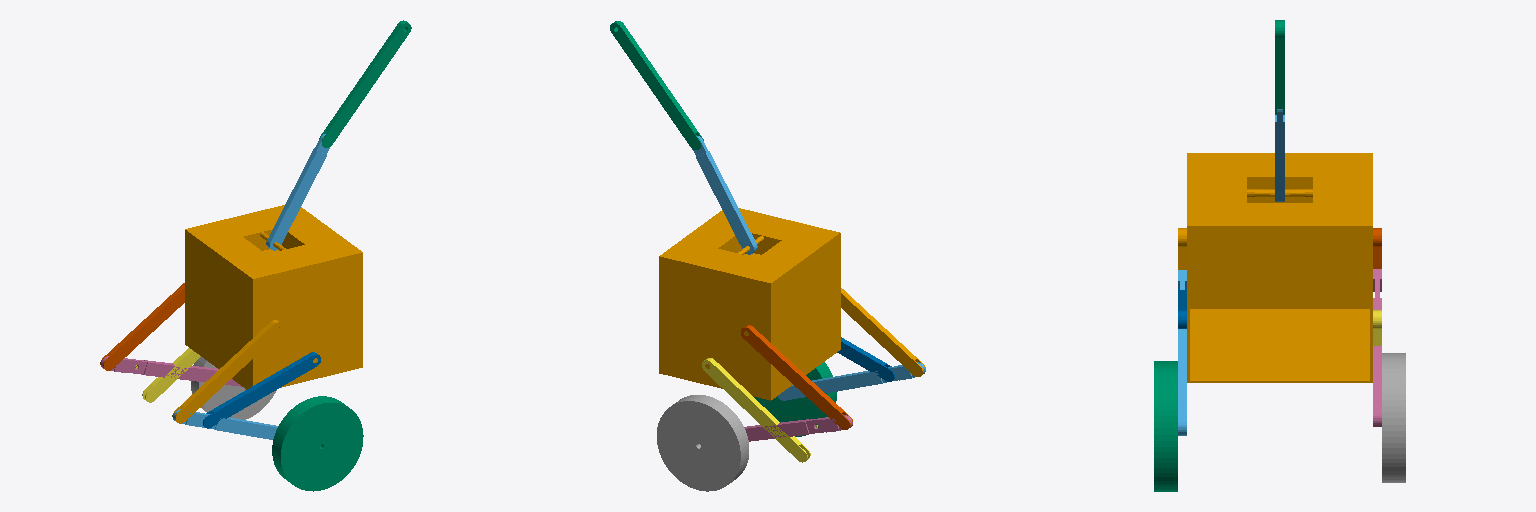
URDF robot description (NewWholeBody):
<?xml version="1.0" ?>
<robot name="NewWholeBody">

<material name="silver">
  <color rgba="0.700 0.700 0.700 1.000"/>
</material>

<link name="base_link">
  <inertial>
    <origin xyz="0.0010369963454156395 -3.348150245632273e-10 0.38745710014612833" rpy="0 0 0"/>
    <mass value="1.5129981071291567"/>
    <inertia ixx="0.015844153533162264" iyy="0.012850727672577528" izz="0.013568085255687909" ixy="8.709088895105673e-12" iyz="3.764736934092507e-11" ixz="-8.04915189246716e-05"/>
  </inertial>
  <visual>
    <origin xyz="0 0 0" rpy="0 0 0"/>
    <geometry>
      <mesh filename="meshes/base_link.stl" scale="0.001 0.001 0.001"/>
    </geometry>
    <material name="silver"/>
    <material/>
  </visual>
  <collision>
    <origin xyz="0 0 0" rpy="0 0 0"/>
    <geometry>
      <mesh filename="meshes/base_link.stl" scale="0.001 0.001 0.001"/>
    </geometry>
  </collision>
</link>

<link name="Arm_11">
  <inertial>
    <origin xyz="-0.06887881670806338 -4.0549828667409675e-16 0.04198937000815561" rpy="0 0 0"/>
    <mass value="0.0925263712895926"/>
    <inertia ixx="6.67047839181395e-05" iyy="0.0002382744186329687" izz="0.00017303107541783368" ixy="6.580077041028907e-19" iyz="-3.9561056124029504e-19" ixz="0.00010315192217067674"/>
  </inertial>
  <visual>
    <origin xyz="-0.018229 0.0 -0.473275" rpy="0 0 0"/>
    <geometry>
      <mesh filename="meshes/Arm_11.stl" scale="0.001 0.001 0.001"/>
    </geometry>
    <material name="silver"/>
    <material/>
  </visual>
  <collision>
    <origin xyz="-0.018229 0.0 -0.473275" rpy="0 0 0"/>
    <geometry>
      <mesh filename="meshes/Arm_11.stl" scale="0.001 0.001 0.001"/>
    </geometry>
  </collision>
</link>

<link name="Arm_21">
  <inertial>
    <origin xyz="-0.07832812139577408 1.5791898303503433e-16 0.06807616769171754" rpy="0 0 0"/>
    <mass value="0.10950674290474426"/>
    <inertia ixx="0.00016788865540319498" iyy="0.00038678724614444465" izz="0.0002207836326081486" ixy="8.327699754513866e-19" iyz="-7.112610145839651e-19" ixz="0.0001879250454968652"/>
  </inertial>
  <visual>
    <origin xyz="0.126925 0.0 -0.561763" rpy="0 0 0"/>
    <geometry>
      <mesh filename="meshes/Arm_21.stl" scale="0.001 0.001 0.001"/>
    </geometry>
    <material name="silver"/>
    <material/>
  </visual>
  <collision>
    <origin xyz="0.126925 0.0 -0.561763" rpy="0 0 0"/>
    <geometry>
      <mesh filename="meshes/Arm_21.stl" scale="0.001 0.001 0.001"/>
    </geometry>
  </collision>
</link>

<link name="link_L341">
  <inertial>
    <origin xyz="-0.07458152287318044 -6.938893903907228e-16 -0.05079130592513936" rpy="0 0 0"/>
    <mass value="0.10302674290474427"/>
    <inertia ixx="0.00010458248707285837" iyy="0.000323345983214483" izz="0.00022054053800852724" ixy="6.505213034913027e-19" iyz="0.0" ixz="-0.0001472703662563728"/>
  </inertial>
  <visual>
    <origin xyz="-0.024731 -0.105 -0.326275" rpy="0 0 0"/>
    <geometry>
      <mesh filename="meshes/link_L341.stl" scale="0.001 0.001 0.001"/>
    </geometry>
    <material name="silver"/>
    <material/>
  </visual>
  <collision>
    <origin xyz="-0.024731 -0.105 -0.326275" rpy="0 0 0"/>
    <geometry>
      <mesh filename="meshes/link_L341.stl" scale="0.001 0.001 0.001"/>
    </geometry>
  </collision>
</link>

<link name="link_r341">
  <inertial>
    <origin xyz="-0.08593191527889932 -2.3592239273284576e-16 -0.027529201722535313" rpy="0 0 0"/>
    <mass value="0.10302674290474428"/>
    <inertia ixx="3.3752191123455344e-05" iyy="0.00032334598321447257" izz="0.0002913708339579858" ixy="1.4094628242311558e-18" iyz="8.673617379884035e-19" ixz="-9.19689452343166e-05"/>
  </inertial>
  <visual>
    <origin xyz="-0.024731 0.105 -0.326275" rpy="0 0 0"/>
    <geometry>
      <mesh filename="meshes/link_r341.stl" scale="0.001 0.001 0.001"/>
    </geometry>
    <material name="silver"/>
    <material/>
  </visual>
  <collision>
    <origin xyz="-0.024731 0.105 -0.326275" rpy="0 0 0"/>
    <geometry>
      <mesh filename="meshes/link_r341.stl" scale="0.001 0.001 0.001"/>
    </geometry>
  </collision>
</link>

<link name="linkL121">
  <inertial>
    <origin xyz="-0.07777655386932458 -3.885780586188048e-16 -0.05049166888892753" rpy="0 0 0"/>
    <mass value="0.10572674290474426"/>
    <inertia ixx="0.0001057636114315582" iyy="0.00034885158668789343" izz="0.0002449100171232426" ixy="1.0842021724855044e-18" iyz="4.336808689942018e-19" ixz="-0.0001561357942743702"/>
  </inertial>
  <visual>
    <origin xyz="0.039771 -0.105 -0.393271" rpy="0 0 0"/>
    <geometry>
      <mesh filename="meshes/linkL121.stl" scale="0.001 0.001 0.001"/>
    </geometry>
    <material name="silver"/>
    <material/>
  </visual>
  <collision>
    <origin xyz="0.039771 -0.105 -0.393271" rpy="0 0 0"/>
    <geometry>
      <mesh filename="meshes/linkL121.stl" scale="0.001 0.001 0.001"/>
    </geometry>
  </collision>
</link>

<link name="link_L251">
  <inertial>
    <origin xyz="0.1229294574686997 0.00010682795323622984 -0.04245834050984432" rpy="0 0 0"/>
    <mass value="0.12704240652648377"/>
    <inertia ixx="7.433373459893311e-05" iyy="0.0006560903389666115" izz="0.0005839875881356168" ixy="-1.4103817254885413e-06" iyz="4.871253104833141e-07" ixz="0.00019986969565994987"/>
  </inertial>
  <visual>
    <origin xyz="0.20165 -0.105 -0.288181" rpy="0 0 0"/>
    <geometry>
      <mesh filename="meshes/link_L251.stl" scale="0.001 0.001 0.001"/>
    </geometry>
    <material name="silver"/>
    <material/>
  </visual>
  <collision>
    <origin xyz="0.20165 -0.105 -0.288181" rpy="0 0 0"/>
    <geometry>
      <mesh filename="meshes/link_L251.stl" scale="0.001 0.001 0.001"/>
    </geometry>
  </collision>
</link>

<link name="wheel_L1">
  <inertial>
    <origin xyz="3.9416159664656947e-07 0.012499999999998929 -1.1878210240401366e-07" rpy="0 0 0"/>
    <mass value="0.26851192410231955"/>
    <inertia ixx="0.0003439861507693112" iyy="0.000660002309443939" izz="0.0003439861507686156" ixy="7.589415207398531e-19" iyz="-6.071532165918825e-18" ixz="-2.719179048593645e-16"/>
  </inertial>
  <visual>
    <origin xyz="-0.0252 -0.11 -0.20983" rpy="0 0 0"/>
    <geometry>
      <mesh filename="meshes/wheel_L1.stl" scale="0.001 0.001 0.001"/>
    </geometry>
    <material name="silver"/>
    <material/>
  </visual>
  <collision>
    <origin xyz="-0.0252 -0.11 -0.20983" rpy="0 0 0"/>
    <geometry>
      <mesh filename="meshes/wheel_L1.stl" scale="0.001 0.001 0.001"/>
    </geometry>
  </collision>
</link>

<link name="link_r121">
  <inertial>
    <origin xyz="-0.07755455907658526 -6.938893903907228e-17 -0.05083199013358264" rpy="0 0 0"/>
    <mass value="0.1057267429047442"/>
    <inertia ixx="0.00010713459417762035" iyy="0.0003488515866879819" izz="0.00024353903437717003" ixy="8.673617379884035e-19" iyz="4.336808689942018e-19" ixz="-0.0001567395099564186"/>
  </inertial>
  <visual>
    <origin xyz="0.039771 0.105 -0.393271" rpy="0 0 0"/>
    <geometry>
      <mesh filename="meshes/link_r121.stl" scale="0.001 0.001 0.001"/>
    </geometry>
    <material name="silver"/>
    <material/>
  </visual>
  <collision>
    <origin xyz="0.039771 0.105 -0.393271" rpy="0 0 0"/>
    <geometry>
      <mesh filename="meshes/link_r121.stl" scale="0.001 0.001 0.001"/>
    </geometry>
  </collision>
</link>

<link name="link_r251">
  <inertial>
    <origin xyz="0.12070595452938576 -0.00010682795323704863 -0.04841883191709501" rpy="0 0 0"/>
    <mass value="0.12704240652648377"/>
    <inertia ixx="9.507892422850293e-05" iyy="0.0006560903389665265" izz="0.0005632423985060474" ixy="1.3848707666422756e-06" iyz="-5.555183520081913e-07" ixz="0.00022380884296089275"/>
  </inertial>
  <visual>
    <origin xyz="0.201188 0.105 -0.287472" rpy="0 0 0"/>
    <geometry>
      <mesh filename="meshes/link_r251.stl" scale="0.001 0.001 0.001"/>
    </geometry>
    <material name="silver"/>
    <material/>
  </visual>
  <collision>
    <origin xyz="0.201188 0.105 -0.287472" rpy="0 0 0"/>
    <geometry>
      <mesh filename="meshes/link_r251.stl" scale="0.001 0.001 0.001"/>
    </geometry>
  </collision>
</link>

<link name="wheel_R1">
  <inertial>
    <origin xyz="1.7122041193889936e-07 -0.012500000000000636 -4.00025579327945e-09" rpy="0 0 0"/>
    <mass value="0.2685119241023203"/>
    <inertia ixx="0.00034398615076871794" iyy="0.000660002309443691" izz="0.0003439861507692184" ixy="8.673617379884035e-19" iyz="0.0" ixz="3.699297812520541e-16"/>
  </inertial>
  <visual>
    <origin xyz="-0.021559 0.11 -0.198121" rpy="0 0 0"/>
    <geometry>
      <mesh filename="meshes/wheel_R1.stl" scale="0.001 0.001 0.001"/>
    </geometry>
    <material name="silver"/>
    <material/>
  </visual>
  <collision>
    <origin xyz="-0.021559 0.11 -0.198121" rpy="0 0 0"/>
    <geometry>
      <mesh filename="meshes/wheel_R1.stl" scale="0.001 0.001 0.001"/>
    </geometry>
  </collision>
</link>



<link name="LL21">
  <inertial>
    <origin xyz="4.251521484033294e-07 0.0005063291139238563 -3.586145163603227e-07" rpy="0 0 0"/>
    <mass value="0.00024353233551547171"/>
    <inertia ixx="9.273654304463872e-10" iyy="7.055501229644764e-10" izz="9.273655016124013e-10" ixy="-5.421010862427522e-20" iyz="0.0" ixz="2.7948699127602894e-17"/>
  </inertial>
  <visual>
    <origin xyz="0.15439 -0.105 -0.271858" rpy="0 0 0"/>
    <geometry>
      <mesh filename="meshes/LL21.stl" scale="0.001 0.001 0.001"/>
    </geometry>
    <material name="silver"/>
    <material/>
  </visual>
  <collision>
    <origin xyz="0.15439 -0.105 -0.271858" rpy="0 0 0"/>
    <geometry>
      <mesh filename="meshes/LL21.stl" scale="0.001 0.001 0.001"/>
    </geometry>
  </collision>
</link>

<link name="RLI1">
  <inertial>
    <origin xyz="1.0501646818816823e-07 -7.216449660063518e-16 -3.2136636832214016e-07" rpy="0 0 0"/>
    <mass value="0.00013872095061008067"/>
    <inertia ixx="1.175515555147403e-09" iyy="3.901526475853692e-11" izz="1.175515553294942e-09" ixy="-7.835054762102278e-21" iyz="3.3881317890172014e-21" ixz="2.3505164286306834e-18"/>
  </inertial>
  <visual>
    <origin xyz="0.130658 -0.105 -0.220453" rpy="0 0 0"/>
    <geometry>
      <mesh filename="meshes/RLI1.stl" scale="0.001 0.001 0.001"/>
    </geometry>
    <material name="silver"/>
    <material/>
  </visual>
  <collision>
    <origin xyz="0.130658 -0.105 -0.220453" rpy="0 0 0"/>
    <geometry>
      <mesh filename="meshes/RLI1.stl" scale="0.001 0.001 0.001"/>
    </geometry>
  </collision>
</link>

<link name="RL21">
  <inertial>
    <origin xyz="-3.5121788705128054e-07 -0.00024999805098951944 -3.910549393193463e-07" rpy="0 0 0"/>
    <mass value="0.00021578820407810084"/>
    <inertia ixx="7.887912378728491e-10" iyy="6.766851174486047e-10" izz="7.87012067779533e-10" ixy="-1.457214560742501e-14" iyz="-3.858351033553817e-14" ixz="-7.65631459802101e-13"/>
  </inertial>
  <visual>
    <origin xyz="0.154782 0.105 -0.268858" rpy="0 0 0"/>
    <geometry>
      <mesh filename="meshes/RL21.stl" scale="0.001 0.001 0.001"/>
    </geometry>
    <material name="silver"/>
    <material/>
  </visual>
  <collision>
    <origin xyz="0.154782 0.105 -0.268858" rpy="0 0 0"/>
    <geometry>
      <mesh filename="meshes/RL21.stl" scale="0.001 0.001 0.001"/>
    </geometry>
  </collision>
</link>

<link name="LLI1">
  <inertial>
    <origin xyz="-1.8961274941831086e-07 2.7755575615628914e-16 -2.3541861088327565e-07" rpy="0 0 0"/>
    <mass value="0.0001387209506100733"/>
    <inertia ixx="1.175515558743905e-09" iyy="3.9015269281692856e-11" izz="1.1755155541411279e-09" ixy="-8.470329472543003e-21" iyz="3.3881317890172014e-21" ixz="3.1509625637859973e-19"/>
  </inertial>
  <visual>
    <origin xyz="0.154306 0.105 -0.268919" rpy="0 0 0"/>
    <geometry>
      <mesh filename="meshes/LLI1.stl" scale="0.001 0.001 0.001"/>
    </geometry>
    <material name="silver"/>
    <material/>
  </visual>
  <collision>
    <origin xyz="0.154306 0.105 -0.268919" rpy="0 0 0"/>
    <geometry>
      <mesh filename="meshes/LLI1.stl" scale="0.001 0.001 0.001"/>
    </geometry>
  </collision>
</link>

<joint name="Revolute_41" type="revolute">
  <origin xyz="0.018229 0.0 0.473275" rpy="0 0 0"/>
  <parent link="base_link"/>
  <child link="Arm_11"/>
  <axis xyz="0.0 1.0 0.0"/>
  <limit upper="2.617994" lower="0.523599" effort="100" velocity="100"/>
</joint>
<transmission name="Revolute_41_tran">
  <type>transmission_interface/SimpleTransmission</type>
  <joint name="Revolute_41">
    <hardwareInterface>PositionJointInterface</hardwareInterface>
  </joint>
  <actuator name="Revolute_41_actr">
    <hardwareInterface>PositionJointInterface</hardwareInterface>
    <mechanicalReduction>1</mechanicalReduction>
  </actuator>
</transmission>

<joint name="Revolute_42" type="continuous">
  <origin xyz="-0.145154 0.0 0.088488" rpy="0 0 0"/>
  <parent link="Arm_11"/>
  <child link="Arm_21"/>
  <axis xyz="0.0 1.0 0.0"/>
</joint>
<transmission name="Revolute_42_tran">
  <type>transmission_interface/SimpleTransmission</type>
  <joint name="Revolute_42">
    <hardwareInterface>PositionJointInterface</hardwareInterface>
  </joint>
  <actuator name="Revolute_42_actr">
    <hardwareInterface>PositionJointInterface</hardwareInterface>
    <mechanicalReduction>1</mechanicalReduction>
  </actuator>
</transmission>

<joint name="Revolute_43" type="continuous">
  <origin xyz="0.024731 0.105 0.326275" rpy="0 0 0"/>
  <parent link="base_link"/>
  <child link="link_L341"/>
  <axis xyz="0.0 1.0 0.0"/>
</joint>
<transmission name="Revolute_43_tran">
  <type>transmission_interface/SimpleTransmission</type>
  <joint name="Revolute_43">
    <hardwareInterface>PositionJointInterface</hardwareInterface>
  </joint>
  <actuator name="Revolute_43_actr">
    <hardwareInterface>PositionJointInterface</hardwareInterface>
    <mechanicalReduction>1</mechanicalReduction>
  </actuator>
</transmission>

<joint name="Revolute_44" type="continuous">
  <origin xyz="0.024731 -0.105 0.326275" rpy="0 0 0"/>
  <parent link="base_link"/>
  <child link="link_r341"/>
  <axis xyz="0.0 1.0 0.0"/>
</joint>
<transmission name="Revolute_44_tran">
  <type>transmission_interface/SimpleTransmission</type>
  <joint name="Revolute_44">
    <hardwareInterface>PositionJointInterface</hardwareInterface>
  </joint>
  <actuator name="Revolute_44_actr">
    <hardwareInterface>PositionJointInterface</hardwareInterface>
    <mechanicalReduction>1</mechanicalReduction>
  </actuator>
</transmission>

<joint name="Revolute_45" type="continuous">
  <origin xyz="-0.039771 0.105 0.393271" rpy="0 0 0"/>
  <parent link="base_link"/>
  <child link="linkL121"/>
  <axis xyz="-0.0 1.0 -0.0"/>
</joint>
<transmission name="Revolute_45_tran">
  <type>transmission_interface/SimpleTransmission</type>
  <joint name="Revolute_45">
    <hardwareInterface>PositionJointInterface</hardwareInterface>
  </joint>
  <actuator name="Revolute_45_actr">
    <hardwareInterface>PositionJointInterface</hardwareInterface>
    <mechanicalReduction>1</mechanicalReduction>
  </actuator>
</transmission>

<joint name="Revolute_46" type="continuous">
  <origin xyz="-0.161879 0.0 -0.10509" rpy="0 0 0"/>
  <parent link="linkL121"/>
  <child link="link_L251"/>
  <axis xyz="0.0 1.0 0.0"/>
</joint>
<transmission name="Revolute_46_tran">
  <type>transmission_interface/SimpleTransmission</type>
  <joint name="Revolute_46">
    <hardwareInterface>PositionJointInterface</hardwareInterface>
  </joint>
  <actuator name="Revolute_46_actr">
    <hardwareInterface>PositionJointInterface</hardwareInterface>
    <mechanicalReduction>1</mechanicalReduction>
  </actuator>
</transmission>

<joint name="Revolute_47" type="continuous">
  <origin xyz="0.22685 0.005 -0.078351" rpy="0 0 0"/>
  <parent link="link_L251"/>
  <child link="wheel_L1"/>
  <axis xyz="0.0 1.0 0.0"/>
</joint>
<transmission name="Revolute_47_tran">
  <type>transmission_interface/SimpleTransmission</type>
  <joint name="Revolute_47">
    <hardwareInterface>PositionJointInterface</hardwareInterface>
  </joint>
  <actuator name="Revolute_47_actr">
    <hardwareInterface>PositionJointInterface</hardwareInterface>
    <mechanicalReduction>1</mechanicalReduction>
  </actuator>
</transmission>

<joint name="Revolute_48" type="continuous">
  <origin xyz="-0.039771 -0.105 0.393271" rpy="0 0 0"/>
  <parent link="base_link"/>
  <child link="link_r121"/>
  <axis xyz="-0.0 1.0 -0.0"/>
</joint>
<transmission name="Revolute_48_tran">
  <type>transmission_interface/SimpleTransmission</type>
  <joint name="Revolute_48">
    <hardwareInterface>PositionJointInterface</hardwareInterface>
  </joint>
  <actuator name="Revolute_48_actr">
    <hardwareInterface>PositionJointInterface</hardwareInterface>
    <mechanicalReduction>1</mechanicalReduction>
  </actuator>
</transmission>

<joint name="Revolute_49" type="continuous">
  <origin xyz="-0.161417 0.0 -0.105799" rpy="0 0 0"/>
  <parent link="link_r121"/>
  <child link="link_r251"/>
  <axis xyz="0.0 1.0 -0.0"/>
</joint>
<transmission name="Revolute_49_tran">
  <type>transmission_interface/SimpleTransmission</type>
  <joint name="Revolute_49">
    <hardwareInterface>PositionJointInterface</hardwareInterface>
  </joint>
  <actuator name="Revolute_49_actr">
    <hardwareInterface>PositionJointInterface</hardwareInterface>
    <mechanicalReduction>1</mechanicalReduction>
  </actuator>
</transmission>

<joint name="Revolute_50" type="continuous">
  <origin xyz="0.222747 -0.005 -0.089351" rpy="0 0 0"/>
  <parent link="link_r251"/>
  <child link="wheel_R1"/>
  <axis xyz="0.0 1.0 -0.0"/>
</joint>
<transmission name="Revolute_50_tran">
  <type>transmission_interface/SimpleTransmission</type>
  <joint name="Revolute_50">
    <hardwareInterface>PositionJointInterface</hardwareInterface>
  </joint>
  <actuator name="Revolute_50_actr">
    <hardwareInterface>PositionJointInterface</hardwareInterface>
    <mechanicalReduction>1</mechanicalReduction>
  </actuator>
</transmission>

<joint name="Revolute_51" type="continuous">
  <origin xyz="0.04726 0.0 -0.016323" rpy="0 0 0"/>
  <parent link="link_L251"/>
  <child link="LL21"/>
  <axis xyz="-0.0 -1.0 -0.0"/>
</joint>
<transmission name="Revolute_51_tran">
  <type>transmission_interface/SimpleTransmission</type>
  <joint name="Revolute_51">
    <hardwareInterface>PositionJointInterface</hardwareInterface>
  </joint>
  <actuator name="Revolute_51_actr">
    <hardwareInterface>PositionJointInterface</hardwareInterface>
    <mechanicalReduction>1</mechanicalReduction>
  </actuator>
</transmission>

<joint name="Revolute_52" type="continuous">
  <origin xyz="-0.155389 0.0 -0.105822" rpy="0 0 0"/>
  <parent link="link_L341"/>
  <child link="RLI1"/>
  <axis xyz="0.0 1.0 -0.0"/>
</joint>
<transmission name="Revolute_52_tran">
  <type>transmission_interface/SimpleTransmission</type>
  <joint name="Revolute_52">
    <hardwareInterface>PositionJointInterface</hardwareInterface>
  </joint>
  <actuator name="Revolute_52_actr">
    <hardwareInterface>PositionJointInterface</hardwareInterface>
    <mechanicalReduction>1</mechanicalReduction>
  </actuator>
</transmission>

<joint name="Revolute_53" type="continuous">
  <origin xyz="0.046406 0.0 -0.018614" rpy="0 0 0"/>
  <parent link="link_r251"/>
  <child link="RL21"/>
  <axis xyz="0.0 1.0 -0.0"/>
</joint>
<transmission name="Revolute_53_tran">
  <type>transmission_interface/SimpleTransmission</type>
  <joint name="Revolute_53">
    <hardwareInterface>PositionJointInterface</hardwareInterface>
  </joint>
  <actuator name="Revolute_53_actr">
    <hardwareInterface>PositionJointInterface</hardwareInterface>
    <mechanicalReduction>1</mechanicalReduction>
  </actuator>
</transmission>

<joint name="Revolute_54" type="continuous">
  <origin xyz="-0.179037 0.0 -0.057356" rpy="0 0 0"/>
  <parent link="link_r341"/>
  <child link="LLI1"/>
  <axis xyz="0.0 1.0 -0.0"/>
</joint>
<transmission name="Revolute_54_tran">
  <type>transmission_interface/SimpleTransmission</type>
  <joint name="Revolute_54">
    <hardwareInterface>PositionJointInterface</hardwareInterface>
  </joint>
  <actuator name="Revolute_54_actr">
    <hardwareInterface>PositionJointInterface</hardwareInterface>
    <mechanicalReduction>1</mechanicalReduction>
  </actuator>
</transmission>

</robot>

--- What the picture shows (computed from the rendered views, not written in the file) ---
3 views of the same robot in one strip: view 1: azimuth 30°, elevation 25°; view 2: azimuth 150°, elevation 25°; view 3: azimuth 270°, elevation 25° (orthographic).
Model NewWholeBody with 15 links and 14 joints (1 revolute, 13 continuous), rooted at base_link, posed all joints at 0 but 1 set to mid-range because 0 is outside their limits (Revolute_41 = 1.57).
Visible links, largest first — view 1: base_link, wheel_R1, Arm_21, link_r121, link_r341, Arm_11, linkL121, link_L251, wheel_L1, link_r251, link_L341; view 2: base_link, wheel_L1, Arm_21, linkL121, link_L341, Arm_11, link_r121, wheel_R1, link_r251, link_L251, link_r341; view 3: base_link, wheel_R1, wheel_L1, link_r251, link_L251, Arm_21, Arm_11.
Link boxes in pixels (bbox=[...]): base_link: bbox=[185, 205, 362, 389]; wheel_R1: bbox=[272, 396, 363, 491]; Arm_21: bbox=[319, 20, 411, 147]; link_r121: bbox=[172, 320, 282, 423]; link_r341: bbox=[203, 352, 320, 428]; Arm_11: bbox=[266, 134, 329, 250]; linkL121: bbox=[100, 283, 184, 370]; link_L251: bbox=[101, 356, 241, 386]; wheel_L1: bbox=[191, 357, 276, 419]; link_r251: bbox=[173, 409, 277, 439]; link_L341: bbox=[142, 348, 200, 402]; base_link: bbox=[659, 208, 840, 400]; wheel_L1: bbox=[657, 395, 748, 491]; Arm_21: bbox=[610, 21, 703, 149]; linkL121: bbox=[741, 325, 852, 429]; link_L341: bbox=[702, 358, 810, 462]; Arm_11: bbox=[692, 136, 757, 254]; link_r121: bbox=[841, 288, 925, 376]; wheel_R1: bbox=[753, 362, 836, 436]; link_r251: bbox=[778, 362, 924, 400]; link_L251: bbox=[744, 415, 852, 441]; link_r341: bbox=[837, 337, 894, 381]; base_link: bbox=[1187, 153, 1372, 382]; wheel_R1: bbox=[1154, 361, 1177, 491]; wheel_L1: bbox=[1382, 353, 1405, 482]; link_r251: bbox=[1178, 270, 1186, 435]; link_L251: bbox=[1373, 269, 1381, 426]; Arm_21: bbox=[1275, 20, 1284, 114]; Arm_11: bbox=[1275, 109, 1284, 201].
Bounding box of the posed robot: 0.4595 × 0.27 × 0.6512 m (x, y, z).
15 mesh visuals loaded from 15 distinct referenced files (15 binary STL).
